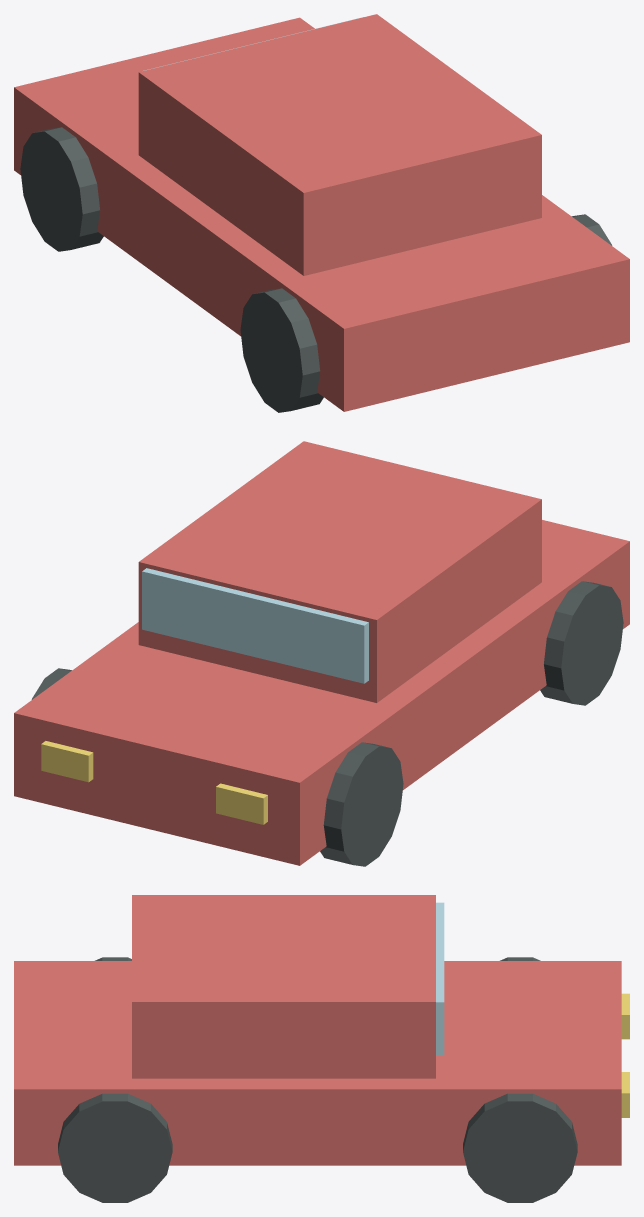
Rendered from car.glb.
3 views of the same model, one above another, from view 1: azimuth 30°, elevation 25°; view 2: azimuth 150°, elevation 25°; view 3: azimuth 270°, elevation 25° (orthographic). The views are drawn at different scales.
Parts seen in each view (by area): view 1: body, cabin, wheel_-0.92_-1.2, wheel_-0.92_1.2; view 2: body, cabin, windshield, wheel_-0.92_1.2, wheel_-0.92_-1.2, headlight_0.55, headlight_-0.55; view 3: body, cabin, wheel_0.92_1.2, wheel_0.92_-1.2, windshield.
Part boxes in pixels (box(x1,y1,x2,y2)): body: box(14, 17, 629, 411); cabin: box(138, 14, 541, 275); wheel_-0.92_-1.2: box(240, 288, 323, 412); wheel_-0.92_1.2: box(20, 127, 103, 251); body: box(14, 520, 629, 865); cabin: box(138, 441, 541, 702); windshield: box(142, 568, 368, 683); wheel_-0.92_1.2: box(320, 742, 403, 866); wheel_-0.92_-1.2: box(540, 581, 623, 705); headlight_0.55: box(41, 741, 93, 782); headlight_-0.55: box(216, 783, 267, 824); body: box(14, 961, 621, 1165); cabin: box(132, 895, 435, 1078); wheel_0.92_1.2: box(463, 1093, 577, 1202); wheel_0.92_-1.2: box(58, 1093, 172, 1202); windshield: box(436, 902, 444, 1055).
Size of the model in its own units: 2.02 by 1.19 by 3.65.
